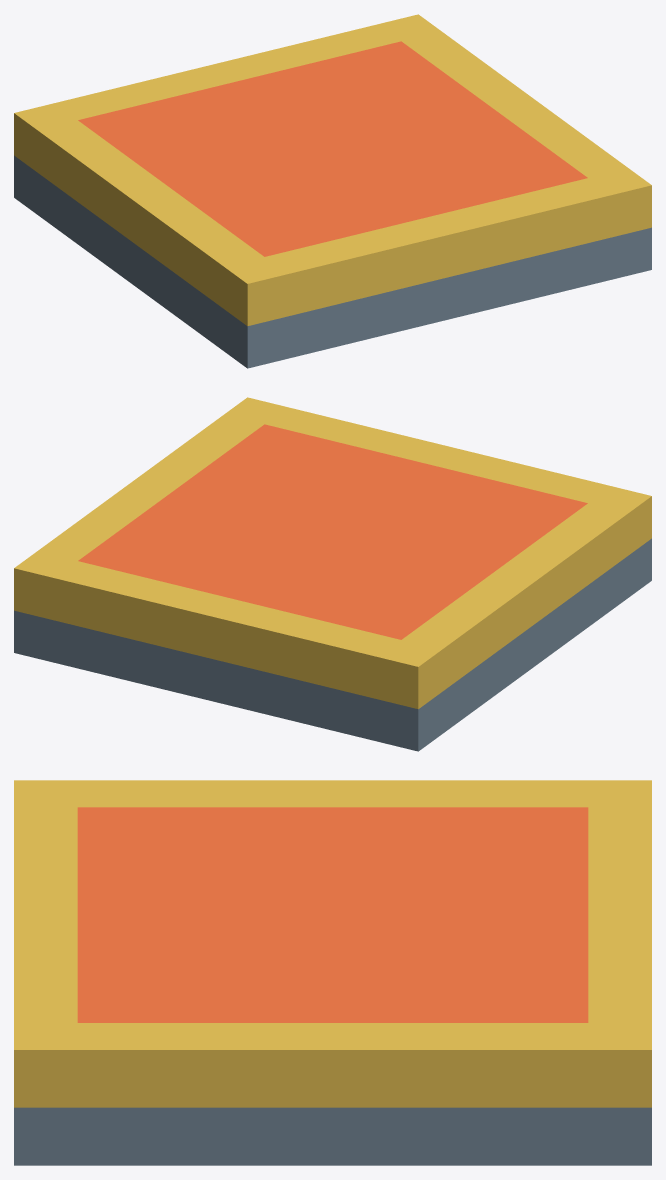
The model's file is platform4.fbx.
3 views of the same model, one above another, from view 1: azimuth 30°, elevation 25°; view 2: azimuth 150°, elevation 25°; view 3: azimuth 270°, elevation 25° (orthographic). The views are drawn at different scales.
Parts seen in each view (by area): view 1: 对象; view 2: 对象; view 3: 对象.
Part boxes in pixels (x1,y1,x2,y2): 对象: (14,14,651,368); 对象: (14,397,651,751); 对象: (14,780,651,1165).
Size of the model in its own units: 10 by 2 by 10.
Materials: 1 (1 with a texture image).
